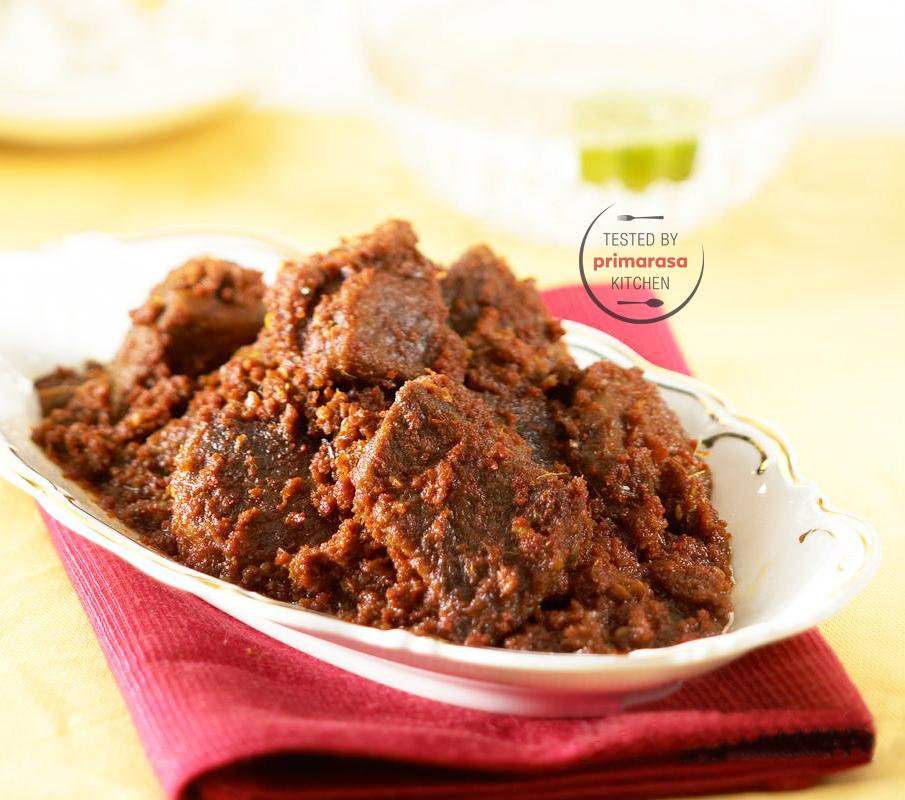rendang: (21, 208, 761, 743)
